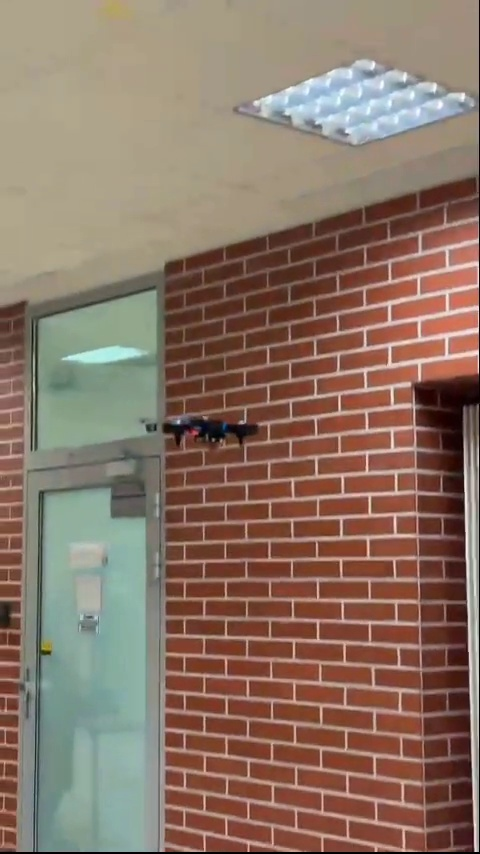drone: (160, 413, 260, 449)
